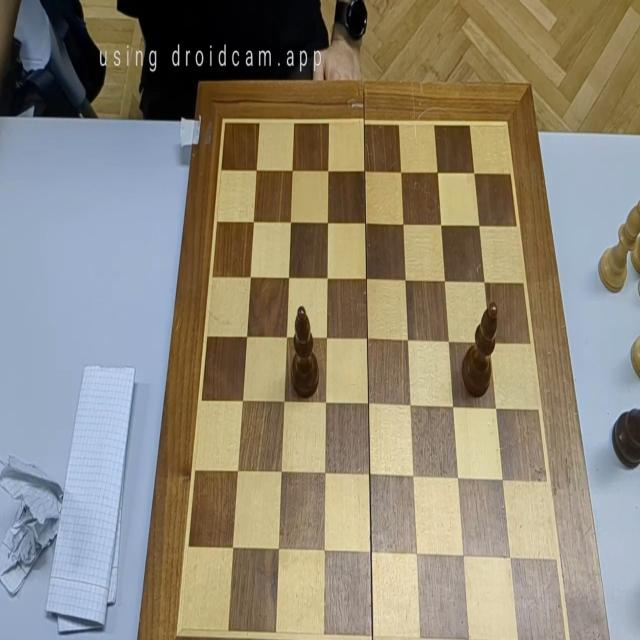black_bishop: (462, 302, 498, 398), (291, 306, 319, 398)
